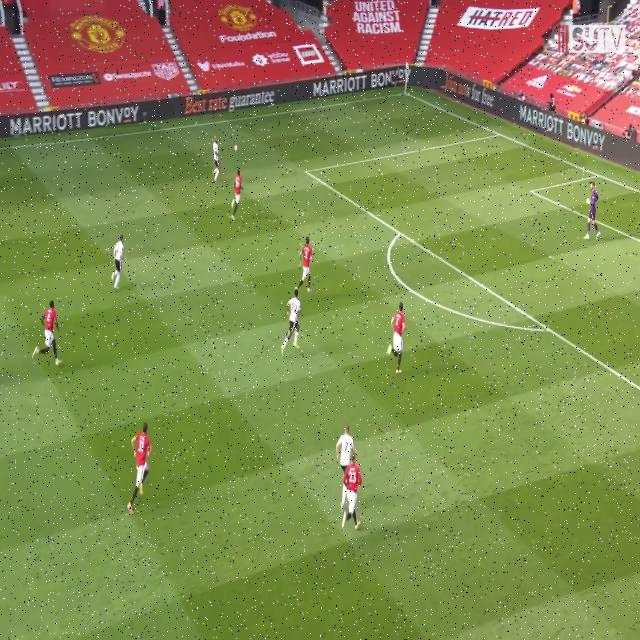Ball: (233, 144, 238, 153)
GoalKeeper: (585, 183, 599, 241)
TEAM 1: (128, 426, 152, 515), (342, 455, 362, 529), (39, 302, 61, 368), (392, 304, 408, 374), (297, 238, 313, 296), (230, 169, 243, 220)
TEAM 2: (283, 289, 304, 354), (334, 420, 352, 476), (113, 234, 128, 289), (212, 138, 223, 184)
